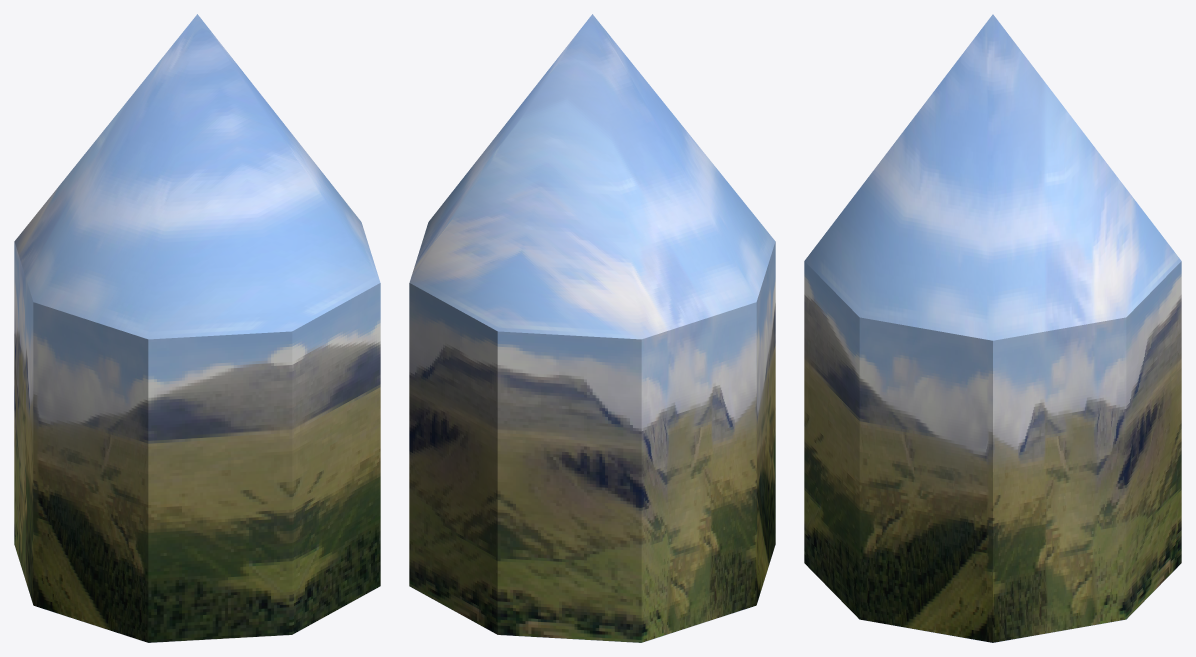
The model's file is Skydome.fbx.
The picture shows the model from 3 angles, left to right: view 1: azimuth 30°, elevation 25°; view 2: azimuth 150°, elevation 25°; view 3: azimuth 270°, elevation 25°; orthographic projection.
Parts seen in each view (by area): view 1: pCylinder1; view 2: pCylinder1; view 3: pCylinder1.
Boxes of the visible parts, left/top/right/bottom form: pCylinder1: left=14, top=14, right=380, bottom=642; pCylinder1: left=409, top=14, right=775, bottom=642; pCylinder1: left=804, top=14, right=1181, bottom=642.
Bounding box in the file's own units: 178 × 286 × 178.
